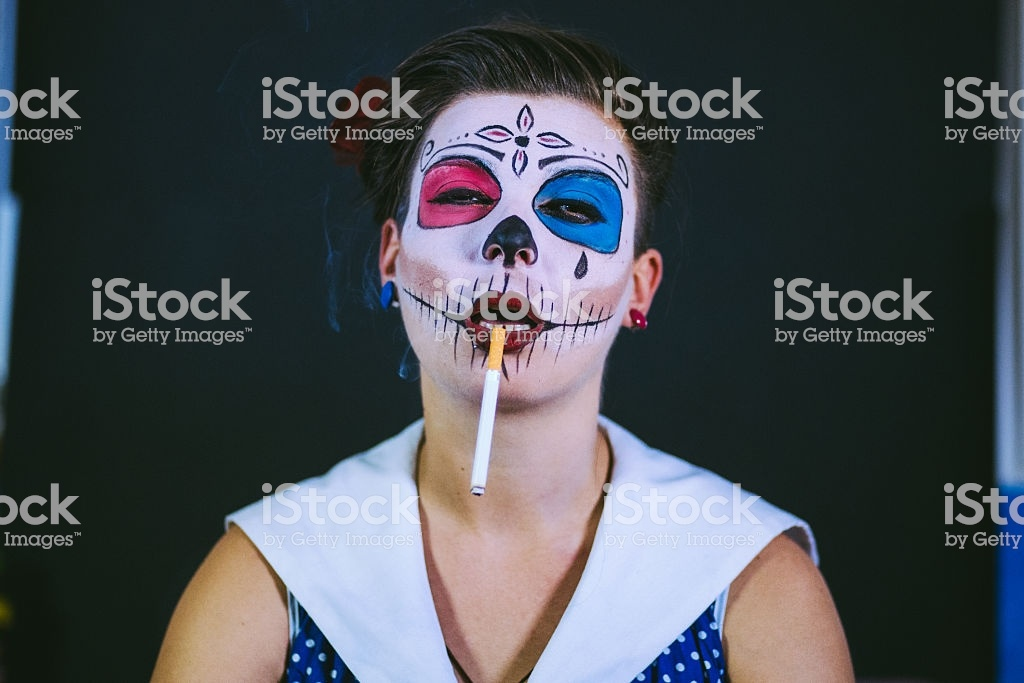sigaretta: (463, 325, 514, 499)
